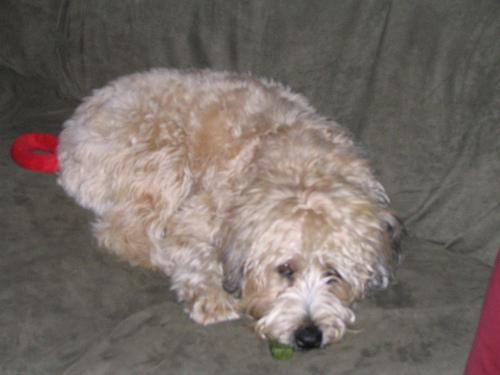dog-wheaten_terrier: (221, 187, 405, 347)
